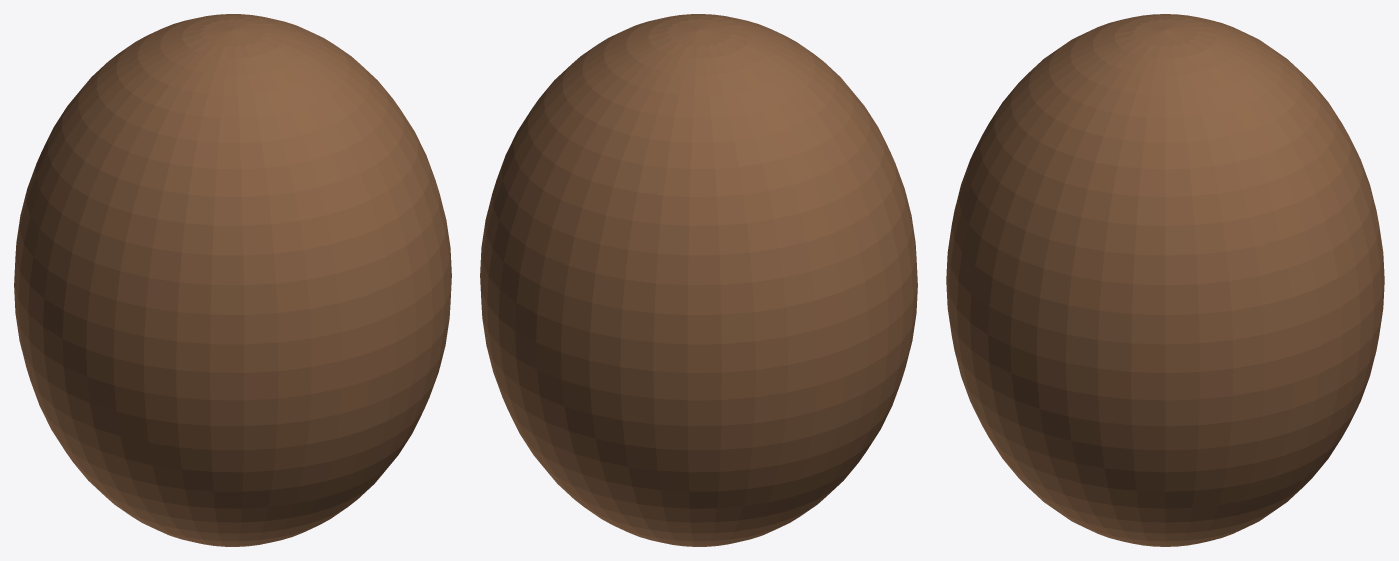
File: brownEgg.fbx
3 renders of one model, left to right at view 1: azimuth 30°, elevation 25°; view 2: azimuth 150°, elevation 25°; view 3: azimuth 270°, elevation 25°, orthographic.
Parts seen in each view (by area): view 1: Brown Egg; view 2: Brown Egg; view 3: Brown Egg.
Part boxes in pixels (x1=…): Brown Egg: x1=14, y1=14, x2=451, y2=546; Brown Egg: x1=480, y1=14, x2=917, y2=546; Brown Egg: x1=946, y1=14, x2=1384, y2=546.
Bounding box in the file's own units: 195 × 246 × 195.
